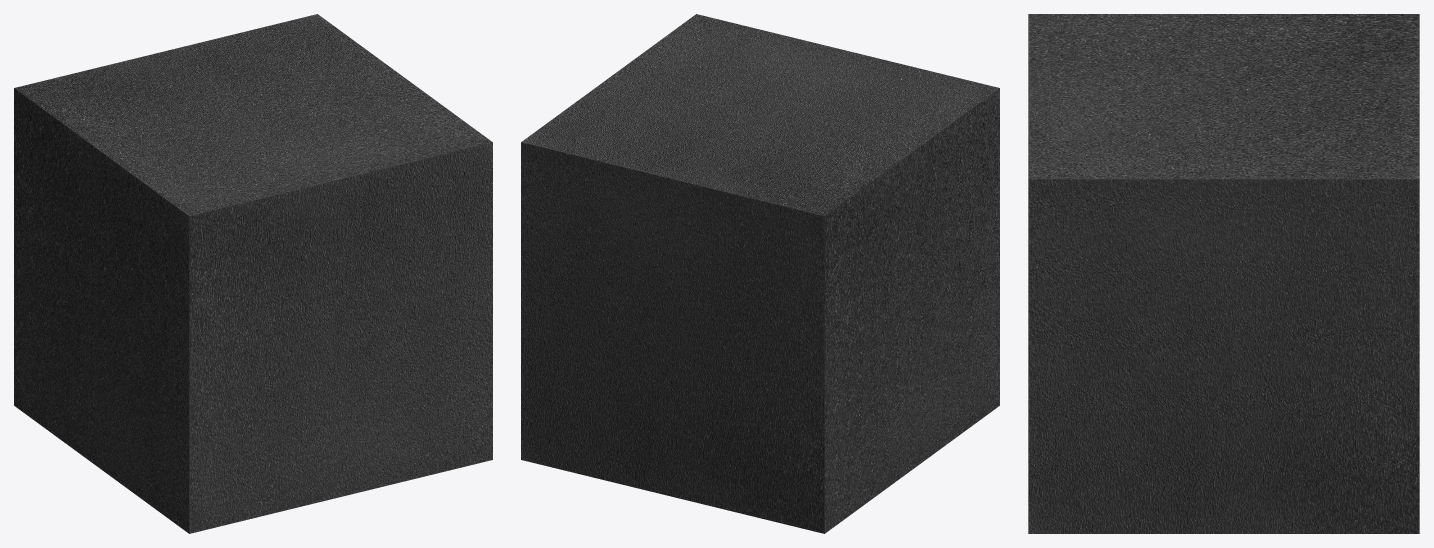
Rendered from crazy.obj.
3 views of the same model, side by side, from view 1: azimuth 30°, elevation 25°; view 2: azimuth 150°, elevation 25°; view 3: azimuth 270°, elevation 25° (orthographic). The views are drawn at different scales.
Visible parts, largest first — view 1: Plane.002, Plane.004, Plane.005; view 2: Plane.001, Plane.004, Plane.005; view 3: Plane.003, Plane.005.
Boxes of the visible parts, left/top/right/bottom form: Plane.002: left=189, top=142, right=492, bottom=533; Plane.004: left=14, top=88, right=189, bottom=533; Plane.005: left=14, top=14, right=492, bottom=216; Plane.001: left=521, top=142, right=824, bottom=533; Plane.004: left=824, top=88, right=999, bottom=533; Plane.005: left=521, top=14, right=999, bottom=216; Plane.003: left=1028, top=179, right=1419, bottom=533; Plane.005: left=1028, top=14, right=1419, bottom=179.
Size of the model in its own units: 2 by 2.01 by 2.
